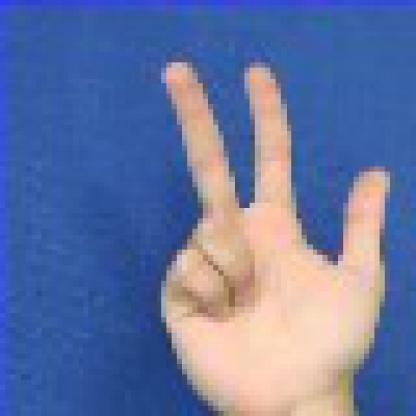eight: (93, 36, 410, 411)
